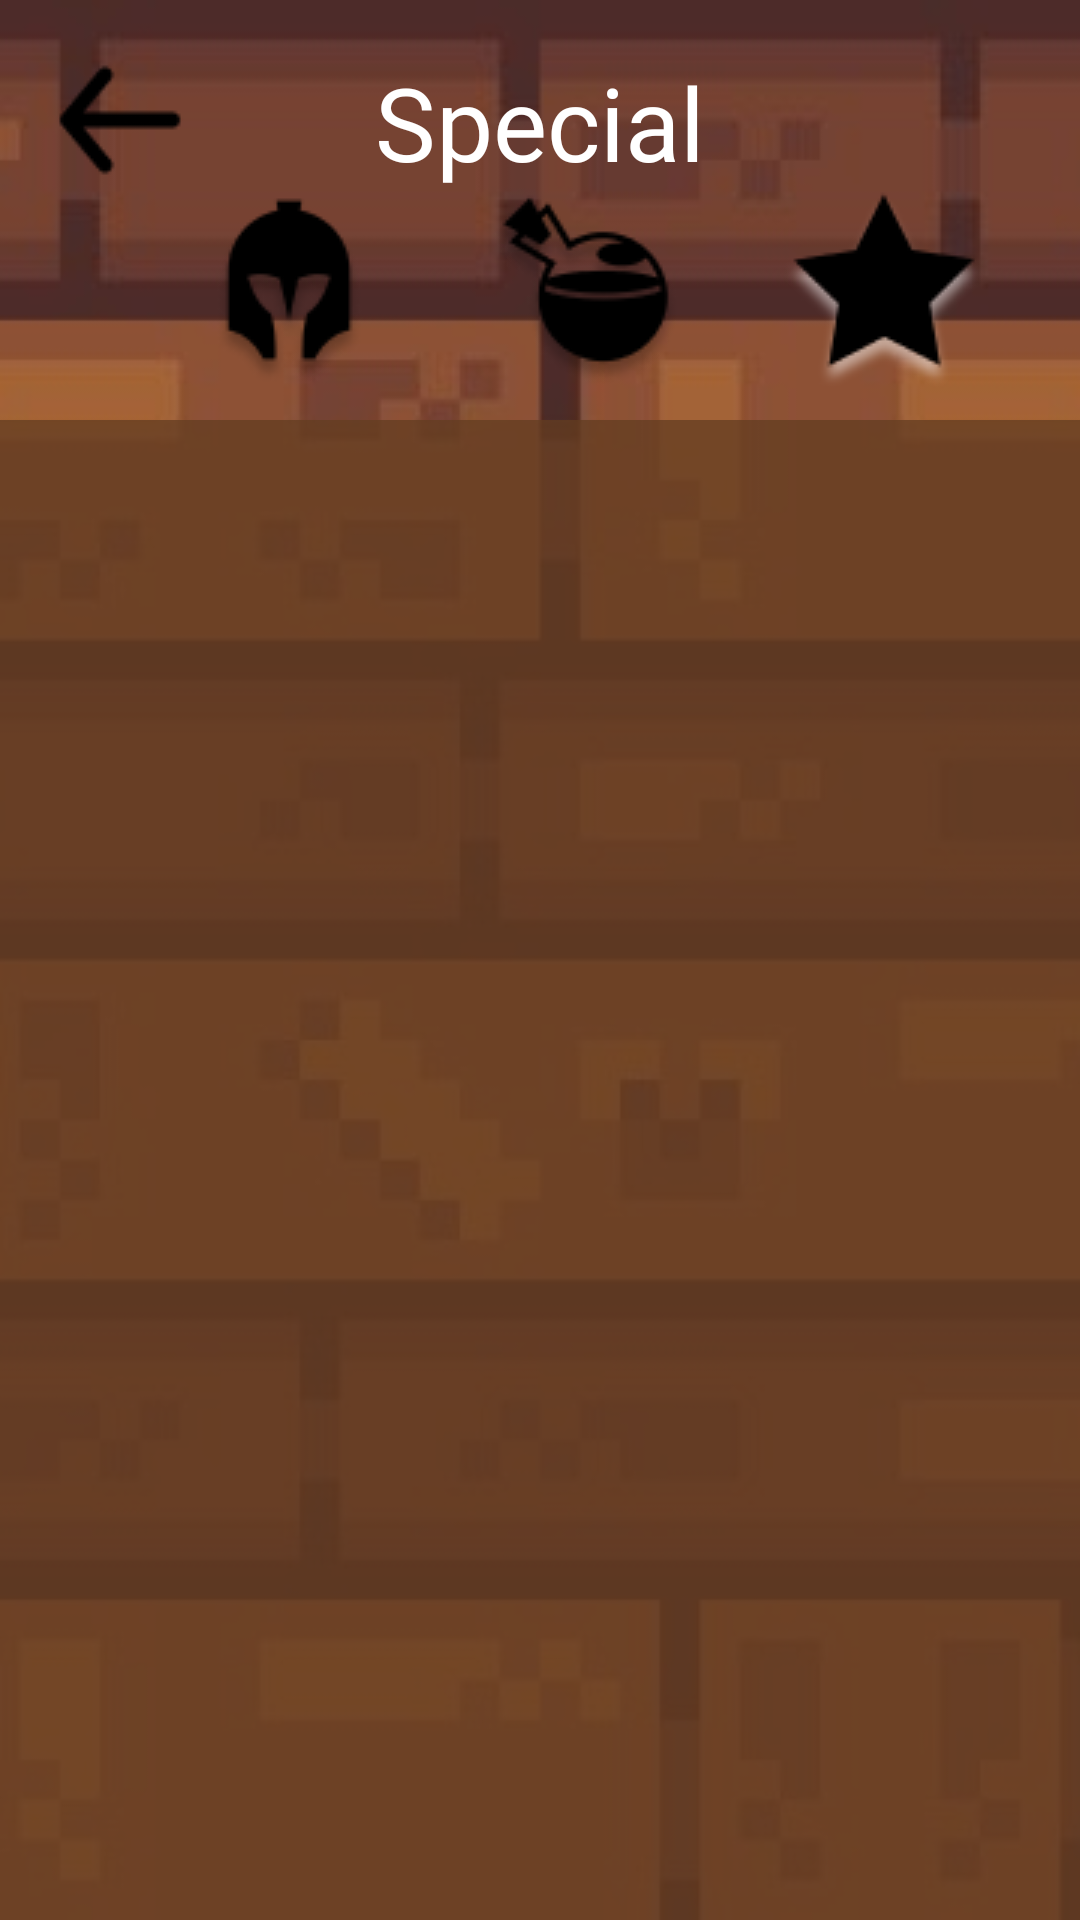

Screen size 1080x1920. Icon name, then its box in pixels as box(x1, y1, x2, y2):
arrow: box(30, 30, 210, 210)
helmet: box(187, 198, 391, 394)
potion: box(485, 198, 689, 394)
star: box(782, 195, 986, 394)
